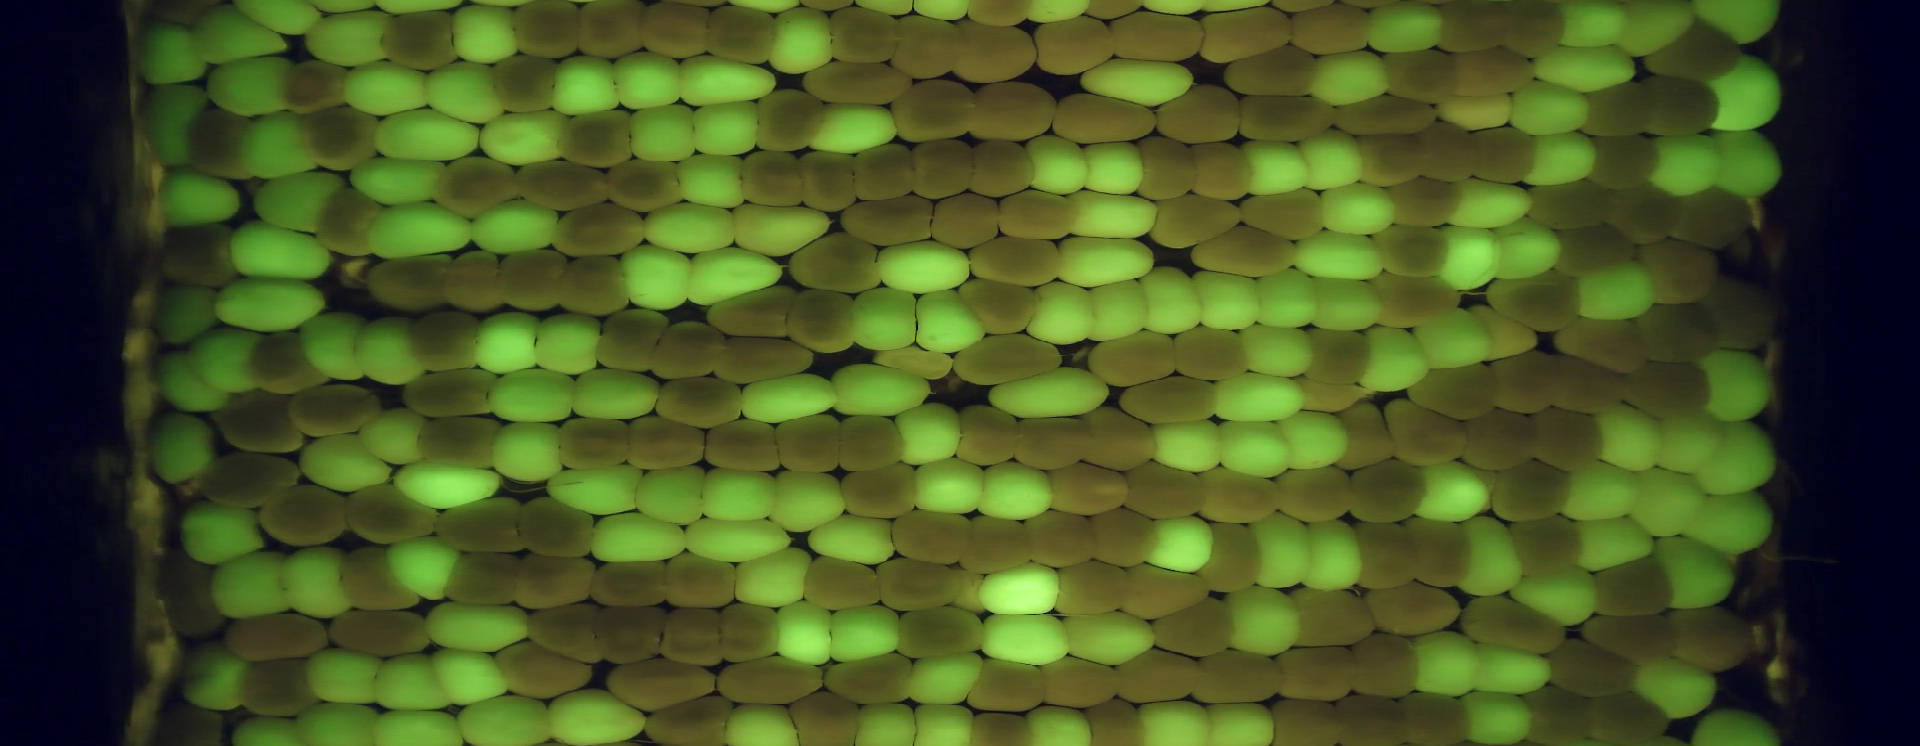fluorescent: (984, 361, 1124, 425), (1690, 413, 1783, 503), (207, 271, 334, 337), (536, 680, 664, 746), (227, 214, 343, 287), (135, 78, 219, 175), (360, 197, 480, 265), (1700, 47, 1785, 140), (1647, 529, 1741, 614), (203, 543, 300, 625), (384, 454, 516, 514), (418, 595, 542, 658), (1078, 51, 1205, 113), (267, 543, 360, 626), (298, 2, 407, 73), (1449, 510, 1531, 604), (681, 243, 787, 315), (182, 2, 293, 72), (1217, 581, 1310, 663), (369, 103, 486, 168), (247, 164, 353, 236), (471, 104, 584, 171), (725, 197, 841, 262), (673, 510, 804, 567), (234, 105, 329, 184), (1504, 561, 1607, 633), (1687, 344, 1779, 425), (827, 358, 940, 423), (149, 160, 250, 234), (1627, 652, 1728, 725), (174, 636, 261, 720), (669, 49, 786, 111), (1624, 463, 1714, 544), (293, 428, 399, 496), (561, 360, 669, 428), (1396, 625, 1491, 701), (182, 321, 273, 399), (481, 363, 587, 430), (419, 644, 522, 713), (1206, 365, 1321, 426), (348, 310, 433, 392), (1243, 506, 1322, 594), (836, 279, 927, 356), (730, 367, 849, 426), (584, 506, 696, 568), (376, 534, 474, 605), (1679, 488, 1777, 559), (463, 194, 566, 261), (727, 543, 819, 617), (977, 605, 1082, 670), (418, 58, 512, 130), (1052, 228, 1161, 290), (202, 51, 301, 120), (538, 462, 658, 518), (142, 408, 225, 489), (691, 462, 789, 530), (1062, 183, 1167, 246), (1206, 415, 1300, 486), (366, 649, 460, 720), (869, 236, 983, 295), (1551, 457, 1648, 526), (800, 99, 910, 159), (173, 499, 266, 570), (1060, 608, 1160, 674), (339, 153, 456, 209), (639, 198, 748, 258), (296, 305, 375, 388), (299, 639, 396, 707), (1524, 40, 1644, 94), (1182, 263, 1271, 336), (148, 345, 238, 418), (800, 508, 905, 570), (1356, 322, 1436, 402), (1303, 42, 1398, 109), (131, 13, 214, 91), (1706, 125, 1789, 202), (1287, 225, 1393, 285), (1019, 274, 1106, 348), (1411, 454, 1498, 528), (967, 456, 1060, 524), (760, 464, 850, 535), (336, 58, 437, 120), (617, 241, 700, 317), (1644, 129, 1728, 203), (600, 47, 691, 115), (449, 688, 557, 746), (820, 601, 912, 669), (1273, 405, 1360, 477), (971, 557, 1068, 621), (1589, 398, 1670, 474), (1138, 511, 1227, 579), (1566, 512, 1660, 577), (1413, 303, 1496, 376), (629, 462, 720, 529), (481, 416, 572, 484), (1441, 174, 1543, 234), (1021, 127, 1100, 205), (1466, 637, 1562, 699), (146, 278, 227, 353), (905, 454, 996, 521), (1502, 73, 1593, 140), (1236, 134, 1321, 203), (1135, 262, 1212, 339), (1430, 219, 1510, 294), (546, 48, 627, 121), (464, 307, 546, 380), (909, 285, 993, 355), (1573, 258, 1660, 326), (888, 402, 972, 470), (622, 100, 709, 167), (902, 647, 992, 710), (1304, 269, 1390, 336), (1298, 517, 1369, 597), (528, 307, 609, 377), (1649, 409, 1731, 478), (444, 1, 528, 69), (763, 5, 839, 78), (1488, 216, 1567, 285), (1613, 1, 1703, 62), (351, 403, 438, 467), (672, 148, 756, 214), (768, 597, 840, 673), (1520, 127, 1603, 192), (1296, 126, 1370, 198), (1456, 682, 1540, 746), (1315, 176, 1402, 238), (1362, 1, 1453, 59), (1249, 265, 1327, 332), (684, 96, 767, 159), (1081, 276, 1156, 345), (1074, 136, 1151, 203), (287, 695, 387, 746), (364, 702, 480, 746), (1127, 693, 1223, 746), (1234, 321, 1319, 381), (1146, 416, 1228, 478), (715, 696, 812, 746), (1549, 1, 1631, 59), (1679, 703, 1787, 746), (227, 1, 331, 45), (1685, 1, 1785, 47), (902, 695, 987, 746), (1198, 696, 1282, 746), (846, 695, 928, 746), (1019, 699, 1103, 746), (223, 710, 304, 746)
nonfluorescent: (1453, 588, 1575, 665), (1637, 13, 1752, 92), (152, 546, 236, 649), (485, 637, 606, 706), (593, 653, 722, 717), (1656, 601, 1763, 677), (354, 249, 467, 321), (190, 447, 313, 512), (1378, 391, 1477, 472), (951, 326, 1071, 392), (1482, 263, 1593, 334), (1100, 7, 1220, 72), (782, 228, 891, 299), (426, 149, 531, 223), (943, 15, 1046, 89), (1047, 89, 1167, 153), (278, 379, 396, 443), (323, 601, 441, 666), (1193, 1, 1299, 72), (211, 385, 309, 462), (704, 653, 835, 710), (249, 479, 356, 549), (1697, 274, 1791, 354), (1184, 220, 1304, 283), (339, 480, 448, 549), (1573, 606, 1689, 671), (1280, 582, 1382, 654), (1632, 232, 1728, 309), (1538, 348, 1643, 418), (422, 492, 533, 559), (1614, 354, 1718, 424), (1106, 644, 1213, 712), (960, 78, 1060, 151), (585, 303, 676, 382), (1629, 69, 1727, 142), (331, 541, 425, 617), (1665, 183, 1760, 258), (1190, 461, 1291, 532), (703, 331, 819, 392), (1522, 399, 1614, 477), (520, 595, 613, 671), (407, 408, 509, 477), (1116, 557, 1218, 626), (1142, 595, 1245, 664), (502, 156, 617, 217), (1367, 267, 1471, 334), (242, 325, 333, 402), (222, 606, 340, 665), (1116, 453, 1213, 524), (290, 103, 384, 176), (1540, 635, 1647, 699), (1075, 401, 1163, 479), (1356, 579, 1469, 639), (181, 103, 261, 189), (887, 76, 981, 148), (509, 490, 598, 567), (1234, 89, 1349, 148), (1584, 557, 1685, 625), (1404, 358, 1505, 425), (1081, 327, 1185, 392), (156, 218, 247, 292), (397, 364, 504, 426), (1631, 298, 1727, 367), (1576, 73, 1667, 147), (796, 550, 893, 619), (1396, 511, 1479, 590), (1344, 513, 1429, 592), (491, 243, 578, 318), (1144, 187, 1251, 249), (818, 646, 920, 710), (1555, 316, 1657, 381), (1187, 646, 1292, 708), (371, 9, 467, 77), (1270, 461, 1365, 529), (1453, 403, 1544, 475), (1221, 42, 1327, 103), (700, 281, 801, 345), (1047, 554, 1140, 624), (1150, 81, 1248, 147), (1446, 40, 1544, 107), (1504, 510, 1592, 583), (884, 501, 978, 570), (582, 600, 676, 669), (1326, 91, 1449, 143), (961, 232, 1070, 290), (797, 58, 918, 110), (229, 654, 322, 723), (959, 653, 1052, 722), (1338, 454, 1433, 522), (403, 301, 486, 377), (1195, 514, 1271, 598), (1234, 183, 1333, 246), (552, 198, 651, 262), (885, 11, 971, 85), (1111, 372, 1224, 428), (992, 183, 1092, 245), (951, 271, 1041, 341), (504, 549, 602, 612), (1547, 220, 1644, 284), (1027, 13, 1122, 80), (313, 183, 391, 263), (1035, 653, 1129, 719), (1347, 627, 1431, 701), (746, 83, 833, 154), (650, 372, 753, 432), (1461, 296, 1549, 366), (884, 604, 991, 661), (1167, 320, 1256, 388), (1483, 459, 1581, 522), (1018, 503, 1103, 575), (640, 317, 732, 383), (1007, 410, 1098, 477), (872, 554, 969, 616), (771, 408, 852, 483), (653, 598, 733, 673), (698, 1, 784, 71), (958, 132, 1043, 202), (1376, 38, 1463, 107), (922, 187, 1010, 255), (782, 285, 863, 359), (839, 458, 927, 526), (955, 507, 1036, 581), (601, 152, 691, 218), (1036, 459, 1136, 518), (699, 415, 790, 480), (1266, 642, 1364, 702), (838, 194, 942, 250), (707, 595, 793, 663), (949, 398, 1029, 472), (551, 107, 640, 171), (1329, 401, 1404, 477), (547, 251, 634, 317), (1578, 686, 1674, 746), (1389, 685, 1482, 746), (437, 548, 527, 611), (828, 412, 913, 478), (1483, 348, 1569, 414), (820, 2, 905, 69), (637, 690, 736, 746), (620, 413, 710, 474), (656, 548, 747, 609), (732, 146, 813, 214), (1381, 171, 1468, 235), (1607, 183, 1693, 246), (552, 410, 636, 477), (1296, 323, 1379, 390), (1129, 130, 1202, 205), (1180, 135, 1259, 205), (276, 55, 358, 121), (902, 135, 984, 201), (1518, 176, 1621, 229), (1430, 1, 1522, 60), (1464, 122, 1544, 190), (506, 1, 591, 64), (1349, 125, 1430, 191), (1369, 220, 1457, 281), (633, 1, 718, 64), (484, 53, 564, 118), (1517, 682, 1599, 746), (1284, 6, 1379, 61), (1260, 692, 1356, 746), (793, 146, 864, 218), (1586, 132, 1668, 195), (1080, 506, 1161, 568), (849, 138, 924, 205), (584, 556, 676, 610), (438, 249, 511, 316), (781, 688, 866, 746), (571, 1, 649, 62), (149, 693, 240, 746), (1333, 688, 1416, 746), (1496, 1, 1571, 64), (1413, 118, 1483, 183), (1433, 89, 1522, 138), (1289, 370, 1382, 414), (1079, 690, 1149, 746), (965, 706, 1040, 746)
